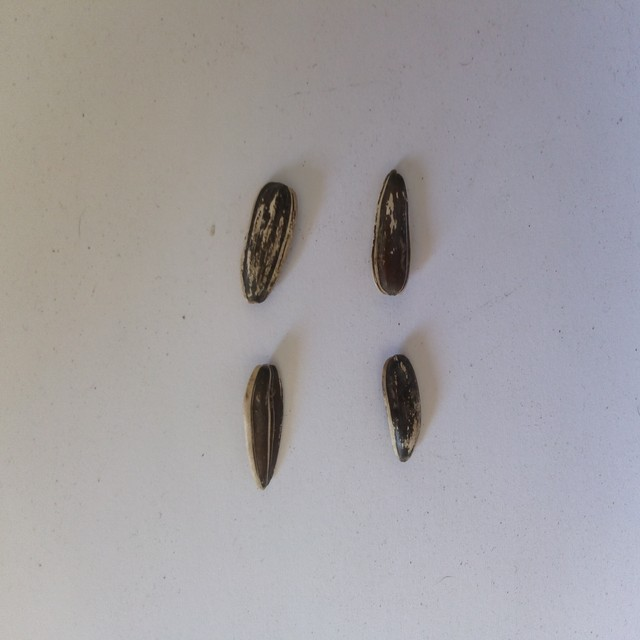girasol: (237, 178, 295, 309), (368, 165, 418, 306), (378, 346, 432, 473), (241, 357, 290, 494)
